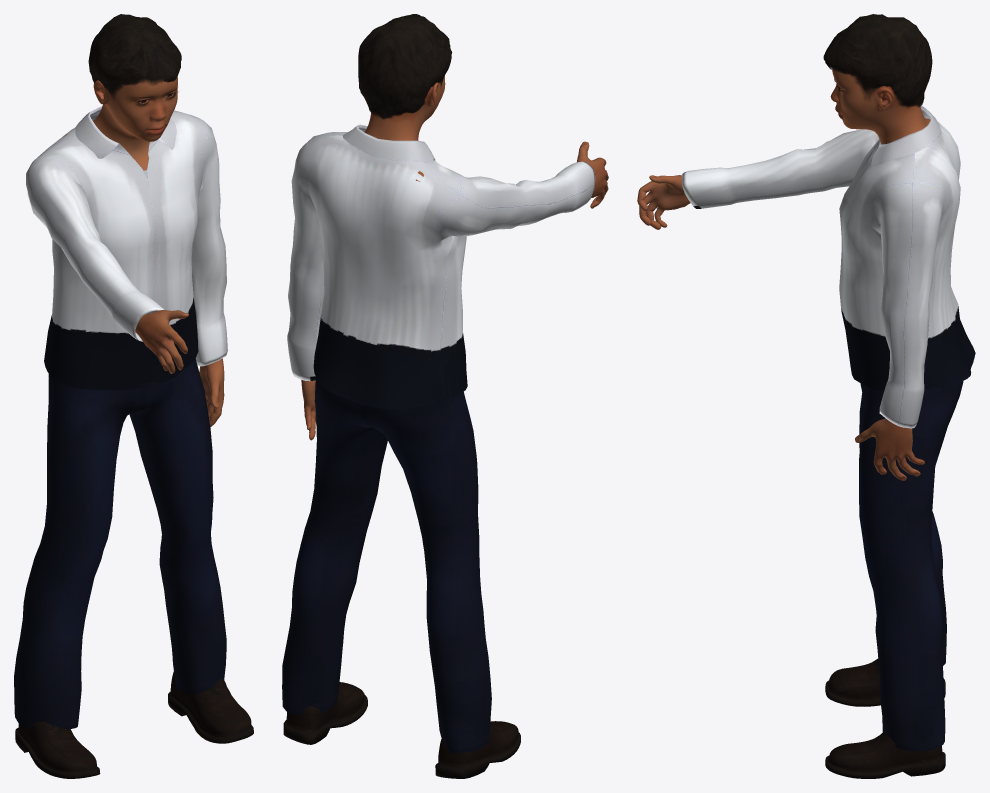
File: b1_reach.glb
3 views of the same model, side by side, from view 1: azimuth 30°, elevation 25°; view 2: azimuth 150°, elevation 25°; view 3: azimuth 270°, elevation 25° (orthographic).
Visible parts, largest first — view 1: b1.male_casualsuit03, b1, b1.shoes01, b1.short02; view 2: b1.male_casualsuit03, b1.short02, b1.shoes01, b1; view 3: b1.male_casualsuit03, b1, b1.short02, b1.shoes01.
Part boxes in pixels (bbox=[...]): b1.male_casualsuit03: bbox=[14, 106, 227, 729]; b1: bbox=[62, 77, 224, 426]; b1.shoes01: bbox=[15, 671, 253, 778]; b1.short02: bbox=[88, 14, 181, 99]; b1.male_casualsuit03: bbox=[282, 124, 595, 752]; b1.short02: bbox=[358, 14, 452, 119]; b1.shoes01: bbox=[283, 682, 520, 778]; b1: bbox=[301, 75, 608, 440]; b1.male_casualsuit03: bbox=[682, 106, 975, 751]; b1: bbox=[637, 68, 930, 480]; b1.short02: bbox=[823, 14, 932, 107]; b1.shoes01: bbox=[825, 658, 945, 778].
Bounding box in the file's own units: 0.4559 × 1.56 × 0.6687.
7 materials, 7 textured.
